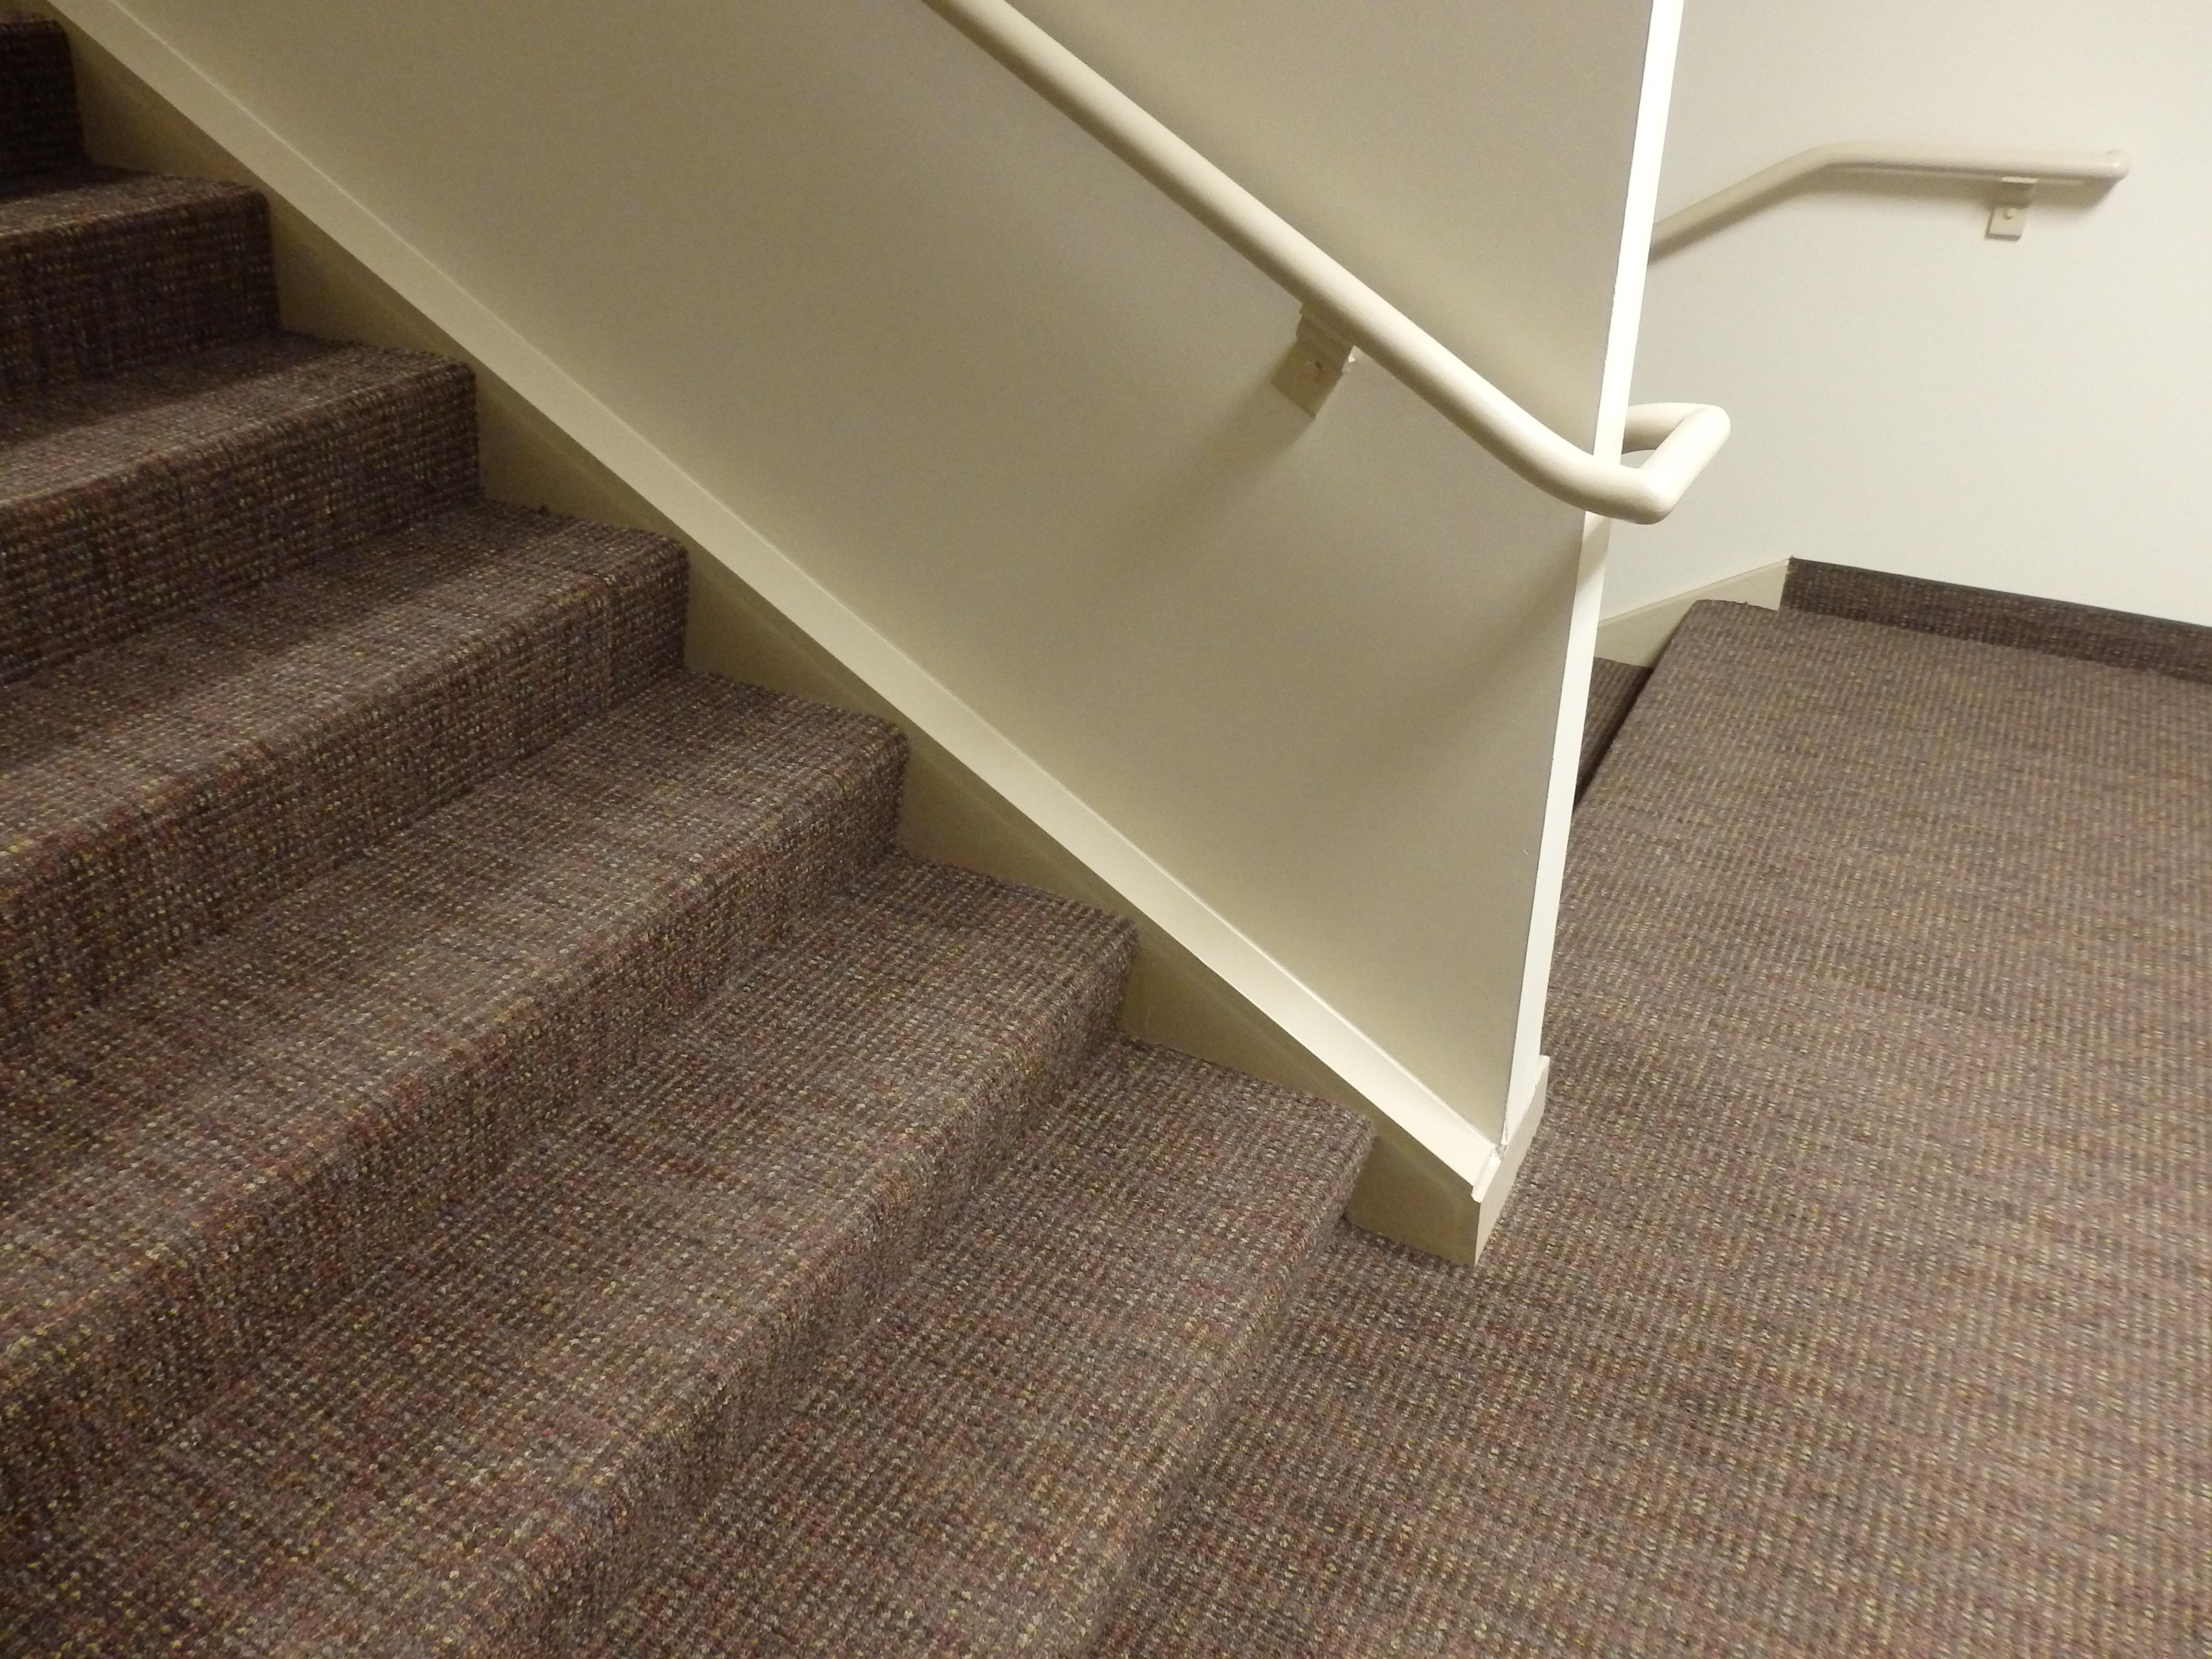stairs_up: (31, 221, 1446, 1659)
